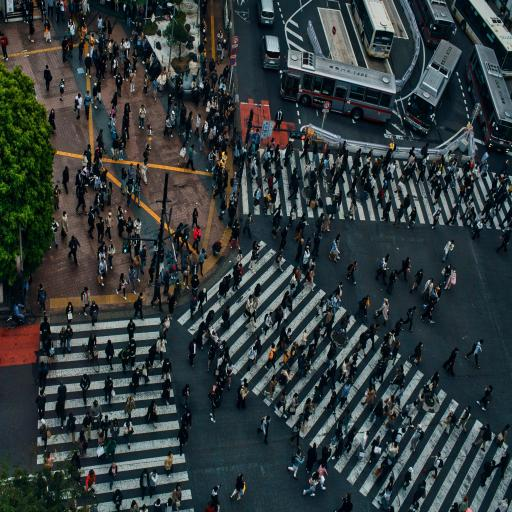bike: (7, 304, 35, 328), (83, 344, 99, 372)
car: (261, 36, 280, 69), (258, 0, 274, 25)
